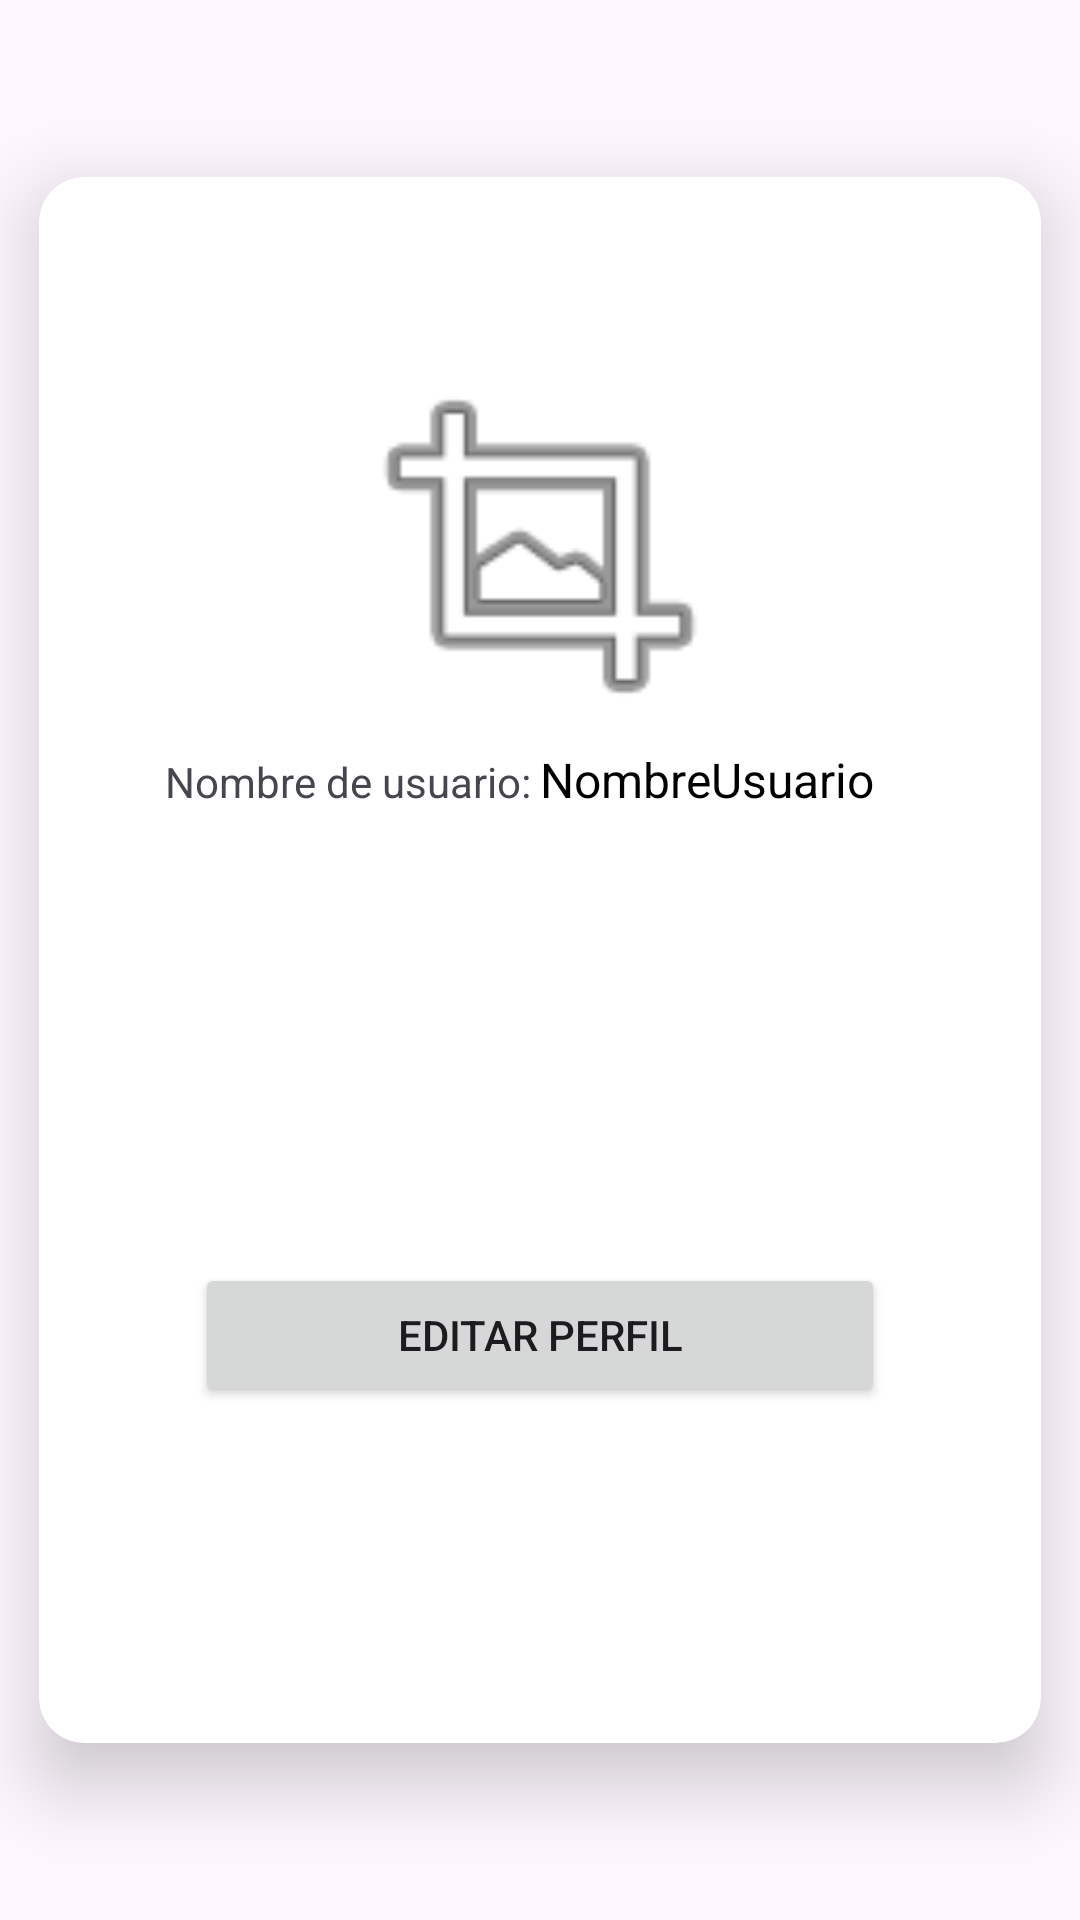

Icon bounding boxes for this 1080×1920 phone screenshot, format {"x1": x1, "y1": y1, "x2": x2, "y2": y2}:
crop: {"x1": 385, "y1": 400, "x2": 695, "y2": 693}
